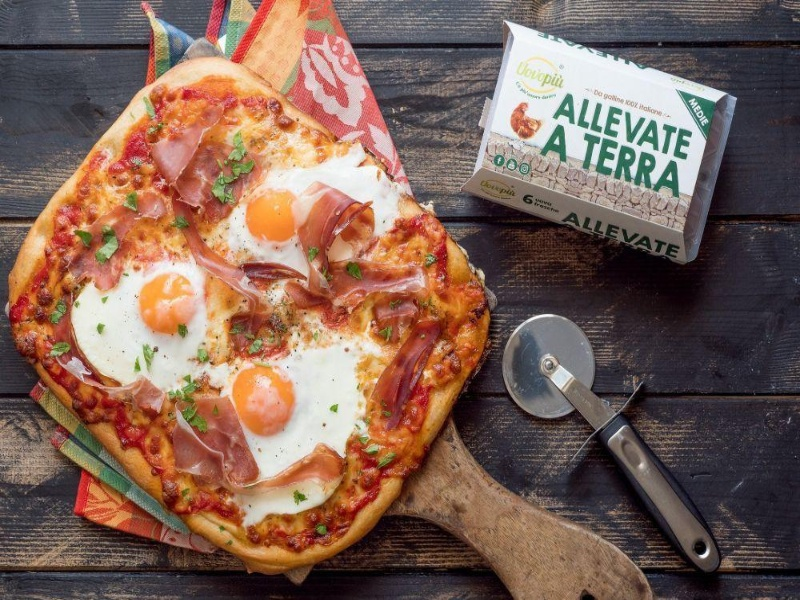oeuf: (232, 361, 316, 447), (132, 270, 209, 347), (242, 175, 307, 253)
